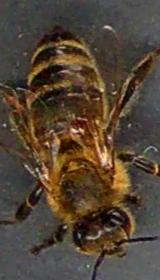varroa_mite: (60, 108, 96, 134)
